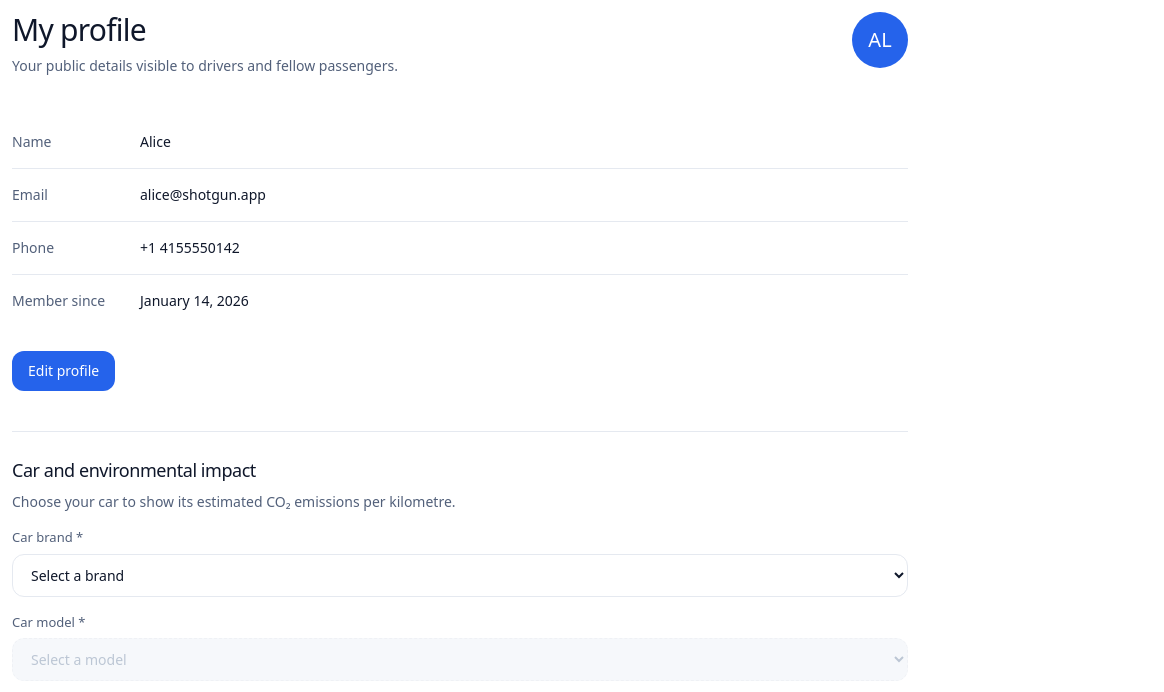
Test: ProfileView › shows and edits bio
Click the button "Edit profile" at x=64, y=371, box top-left (12, 351), bottom-right (115, 391)
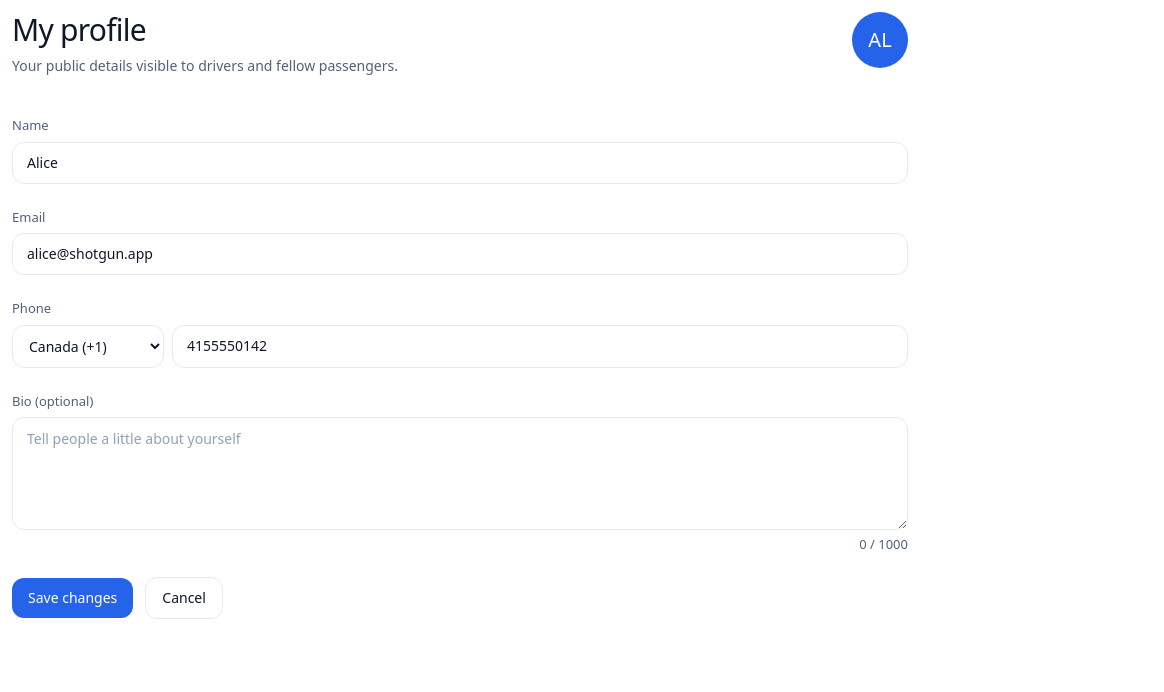
Check: the text box labelled "Bio (optional) 0 / 1000" is shown
Type "Music enthusiast & carpooler." into the text box labelled "Bio (optional) 0 / 1000" at x=460, y=474, box top-left (12, 417), bottom-right (908, 530)
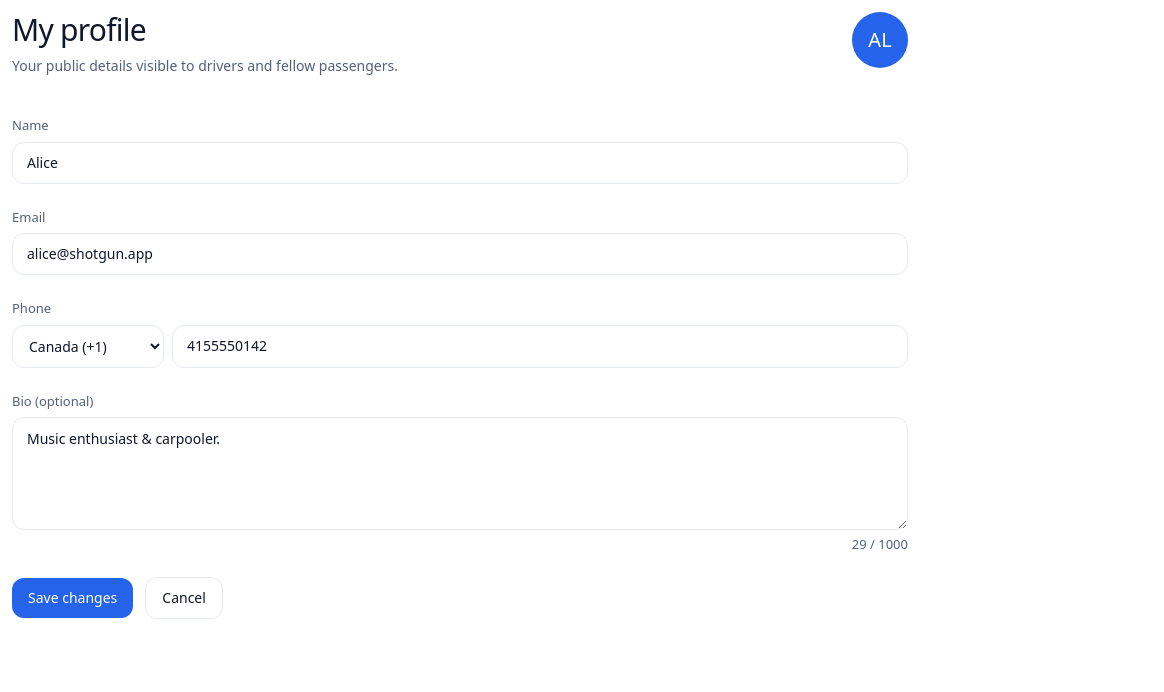
Check: the text "29 / 1000" is shown, box top-left (852, 536), bottom-right (908, 553)
Submit the form, box top-left (12, 116), bottom-right (908, 619)
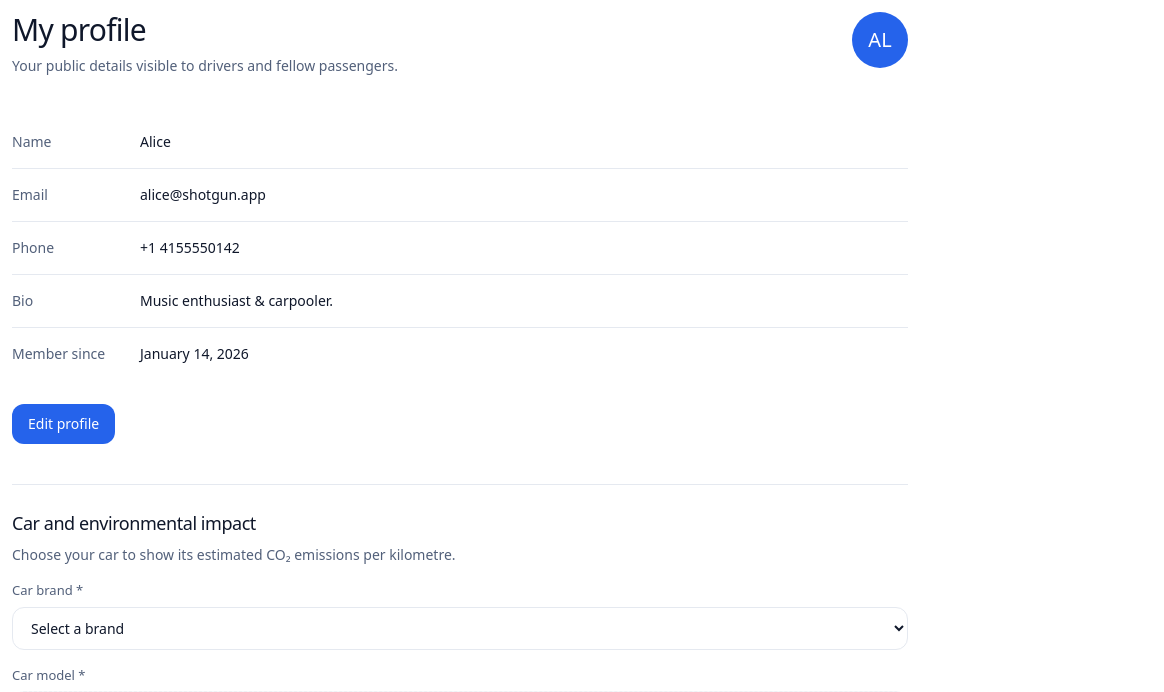
Check: the text "Music enthusiast & carpooler." is shown, box top-left (140, 291), bottom-right (333, 310)
